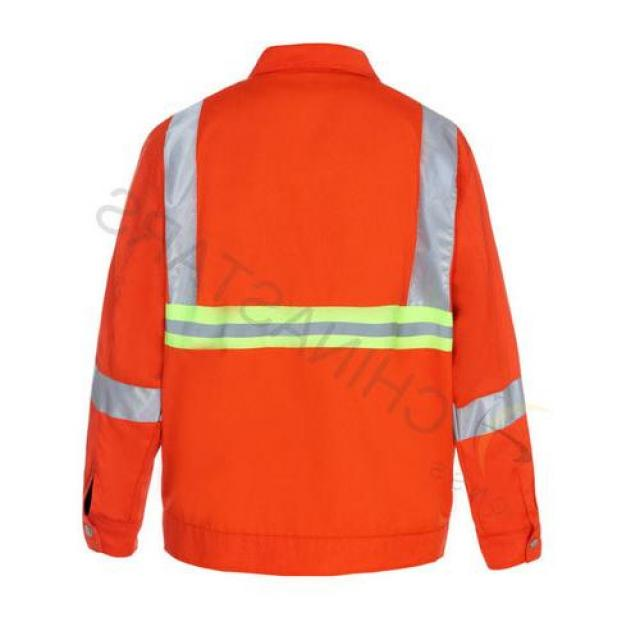Reflective-Jacket: (64, 39, 562, 586)
